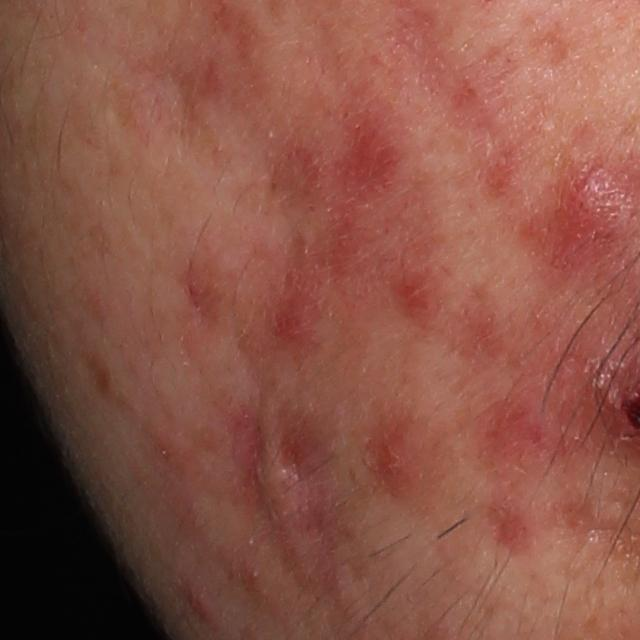atrophic_scar: (228, 412, 269, 530), (273, 416, 326, 500), (531, 29, 572, 72)
papule: (375, 413, 436, 496), (274, 286, 330, 350), (392, 272, 436, 320), (183, 582, 219, 620)
